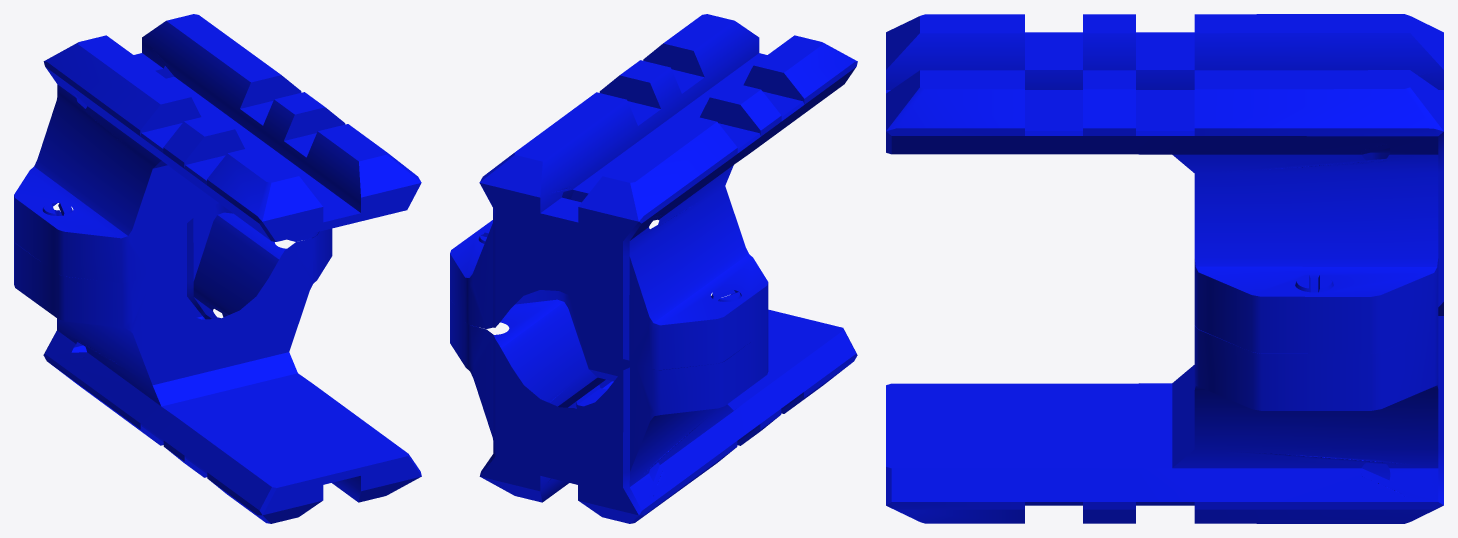
Rendered from DFDoubleS_LOD0.FBX.
3 views of the same model, side by side, from view 1: azimuth 30°, elevation 25°; view 2: azimuth 150°, elevation 25°; view 3: azimuth 270°, elevation 25° (orthographic). The views are drawn at different scales.
Parts seen in each view (by area): view 1: DF_BaseBodyTop_LOD0, DF_BaseBodyTop1_LOD0; view 2: DF_BaseBodyTop_LOD0, DF_BaseBodyTop1_LOD0; view 3: DF_BaseBodyTop_LOD0, DF_BaseBodyTop1_LOD0.
Part boxes in pixels (left/top/right/bottom): DF_BaseBodyTop_LOD0: left=14, top=14, right=421, bottom=282; DF_BaseBodyTop1_LOD0: left=14, top=203, right=421, bottom=523; DF_BaseBodyTop_LOD0: left=450, top=14, right=857, bottom=369; DF_BaseBodyTop1_LOD0: left=450, top=290, right=857, bottom=523; DF_BaseBodyTop_LOD0: left=886, top=14, right=1443, bottom=353; DF_BaseBodyTop1_LOD0: left=886, top=276, right=1443, bottom=523.
Bounding box in the file's own units: 3.61 × 4.3 × 5.
